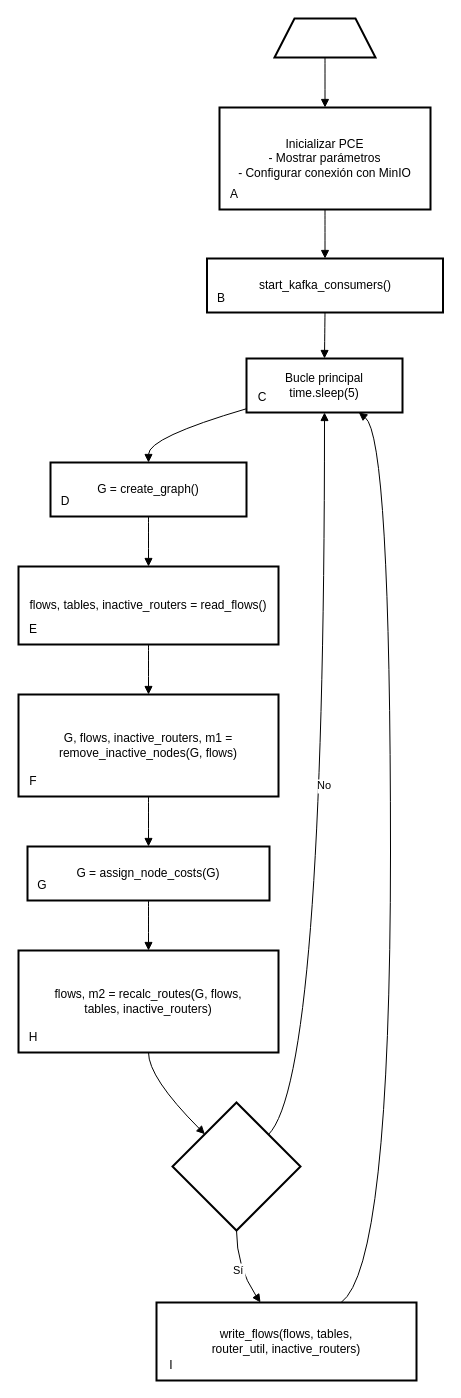
Image size: 461x1398. Some labels were removed from this diagram. Here are the shapes that lost their labels. From the top down, the centre of each, then its label:
At (x=324, y=37): "main()".
At (x=236, y=1166): "m1 or m2?".
